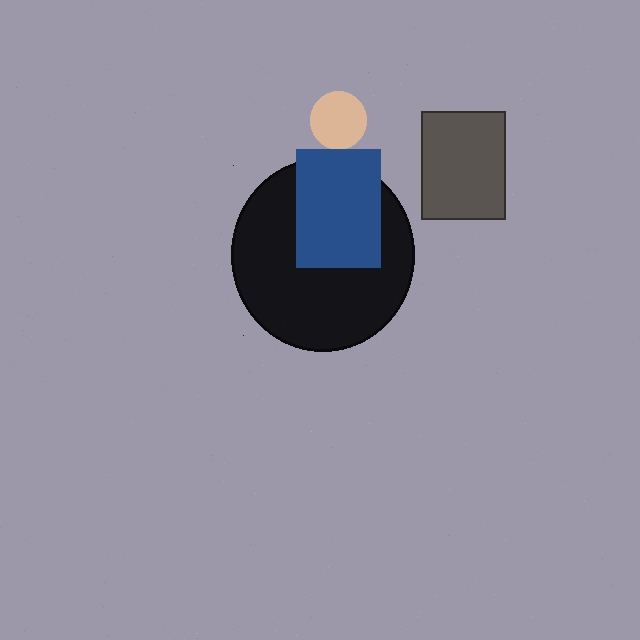concrete_damage: (421, 111, 505, 219)
person: (254, 91, 423, 267)
pothole: (231, 158, 414, 351)
